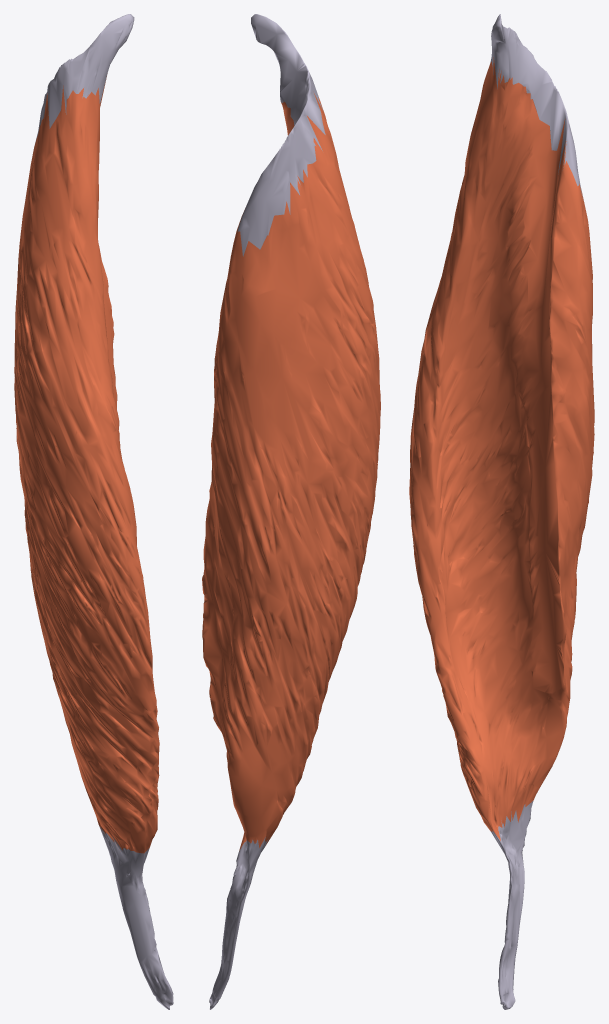
File: Vastus_lateralis_muscle.r_Generated_Mesh_From_X3D.128.glb
3 views of the same model, side by side, from view 1: azimuth 30°, elevation 25°; view 2: azimuth 150°, elevation 25°; view 3: azimuth 270°, elevation 25° (orthographic). The views are drawn at different scales.
Parts seen in each view (by area): view 1: Vastus_lateralis_muscle.r_Generated_Mesh_From_X3D.128; view 2: Vastus_lateralis_muscle.r_Generated_Mesh_From_X3D.128; view 3: Vastus_lateralis_muscle.r_Generated_Mesh_From_X3D.128.
Part boxes in pixels (x1,y1,x2,y2): Vastus_lateralis_muscle.r_Generated_Mesh_From_X3D.128: (14, 14, 173, 1009); Vastus_lateralis_muscle.r_Generated_Mesh_From_X3D.128: (202, 14, 380, 1009); Vastus_lateralis_muscle.r_Generated_Mesh_From_X3D.128: (409, 14, 594, 1009).
Size of the model in its own units: 0.0741 by 0.4573 by 0.0792.
